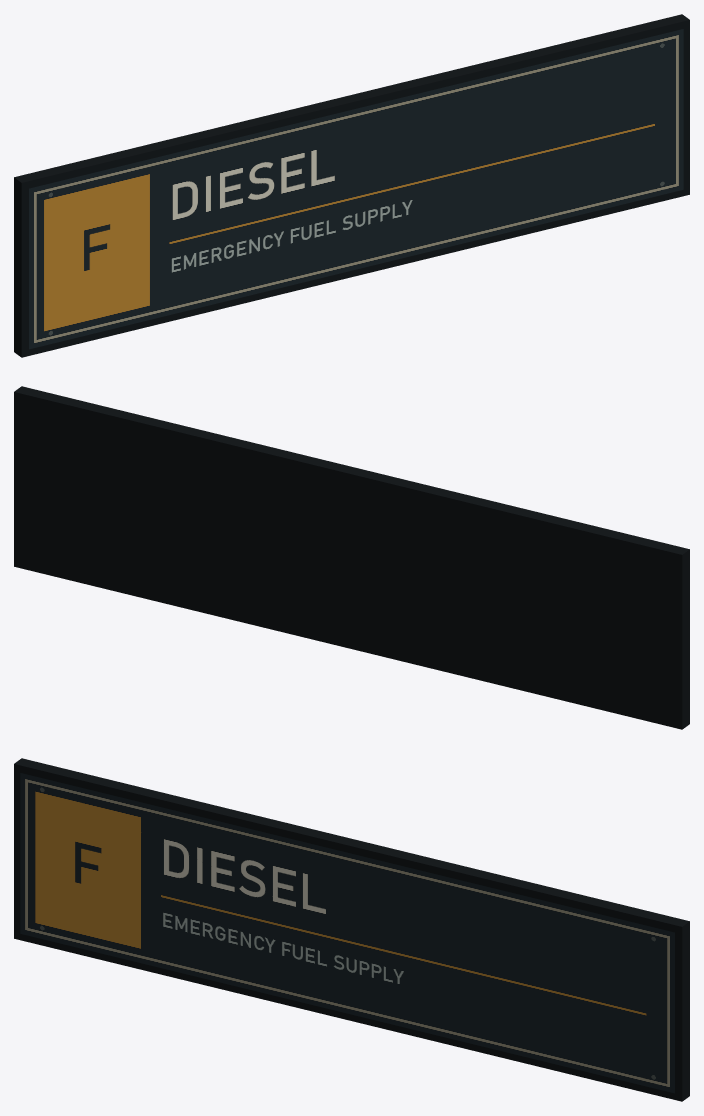
Rendered from FuelSign.obj.
The picture shows the model from 3 angles, top to bottom: view 1: azimuth 30°, elevation 25°; view 2: azimuth 150°, elevation 25°; view 3: azimuth 330°, elevation 25°; orthographic projection.
Parts seen in each view (by area): view 1: FuelSign; view 2: FuelSign; view 3: FuelSign.
Boxes of the visible parts, x1=… form: FuelSign: x1=14, y1=14, x2=689, y2=357; FuelSign: x1=14, y1=386, x2=689, y2=729; FuelSign: x1=14, y1=758, x2=689, y2=1101.
Bounding box in the file's own units: 4 × 1 × 0.085.
2 materials, 1 textured.
